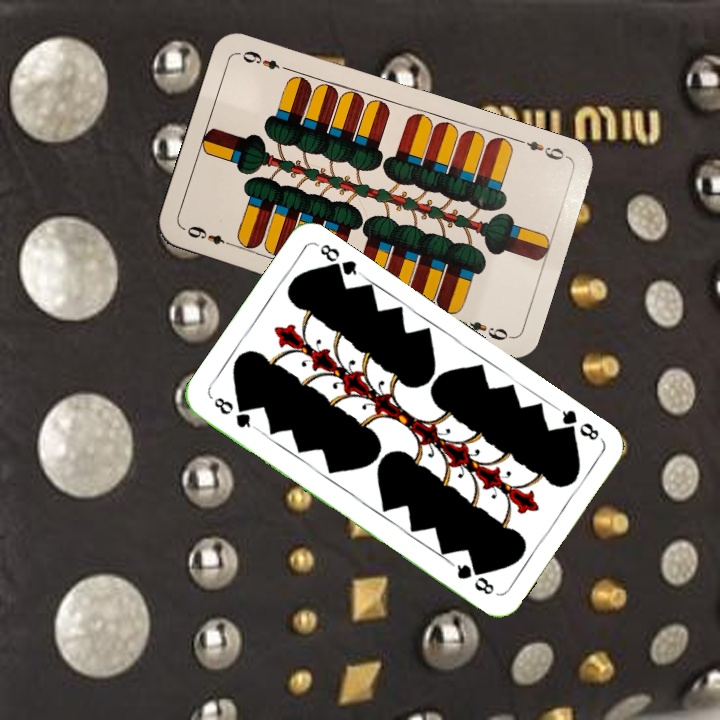E9: (180, 221, 238, 250), (514, 135, 571, 163)
G8: (552, 403, 604, 443), (209, 393, 259, 432)
